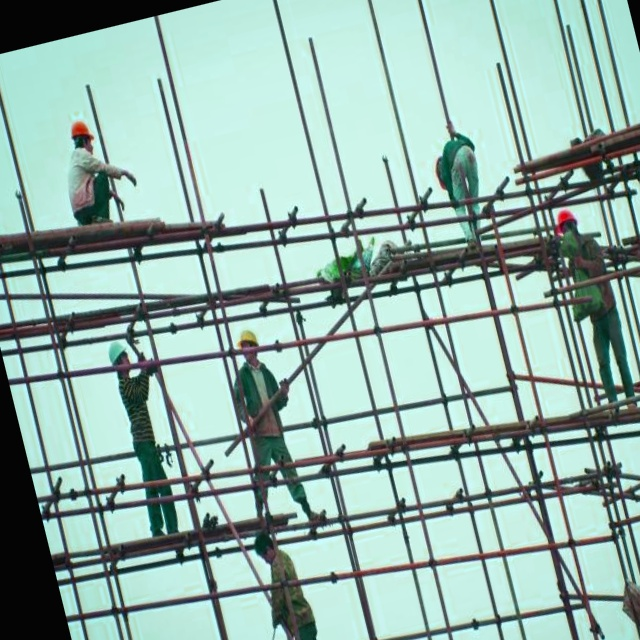Con_Casco: (104, 337, 133, 376), (69, 120, 98, 159), (237, 328, 263, 365)
